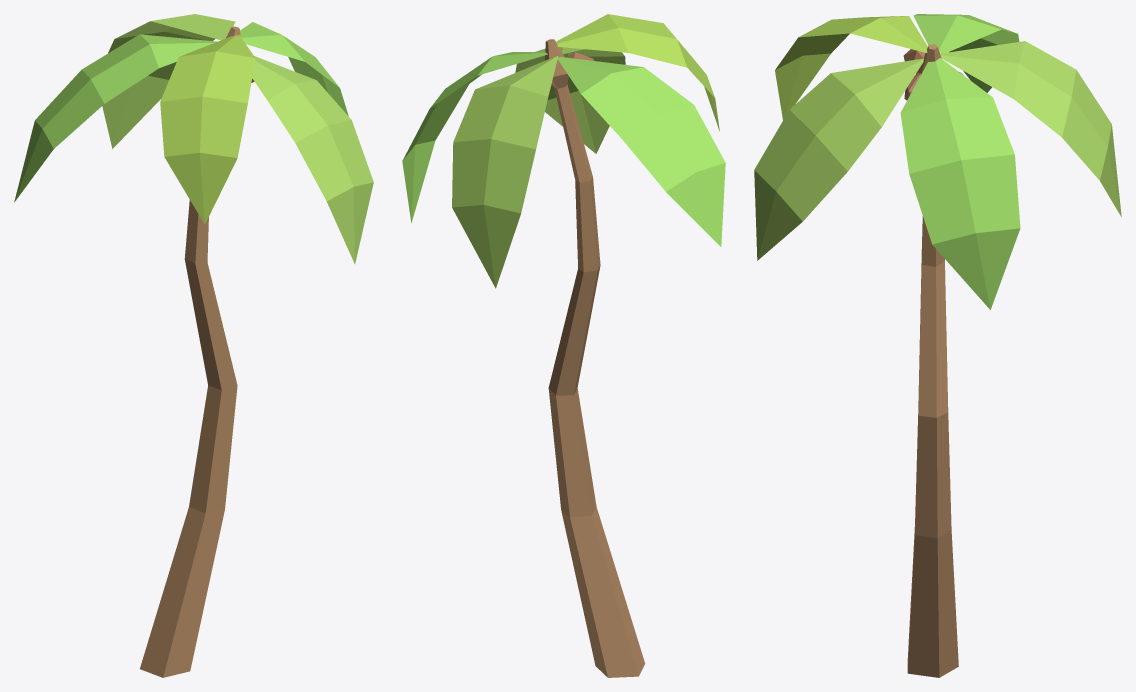
Rendered from Palm_Tree_Coconut_s_04_LOD.fbx.
3 renders of one model, left to right at view 1: azimuth 30°, elevation 25°; view 2: azimuth 150°, elevation 25°; view 3: azimuth 270°, elevation 25°, orthographic. The views are drawn at different scales.
Parts seen in each view (by area): view 1: Palm_Tree_Coconut_s_04_LOD0; view 2: Palm_Tree_Coconut_s_04_LOD0; view 3: Palm_Tree_Coconut_s_04_LOD0.
Part boxes in pixels (x1,y1,x2,y2): Palm_Tree_Coconut_s_04_LOD0: (14,14,373,677); Palm_Tree_Coconut_s_04_LOD0: (402,14,725,677); Palm_Tree_Coconut_s_04_LOD0: (754,14,1121,677).
Size of what is drawn, in the model's own units: 243 by 462 by 232.
